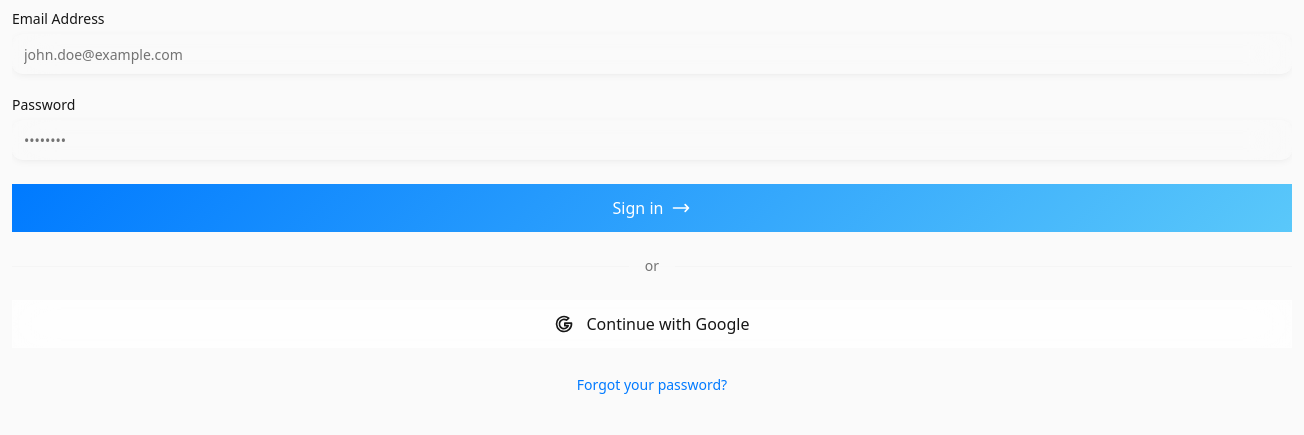
Test: LoginForm › displays error for invalid email format
Type "invalid@email" into the field labelled "Email Address" at (652, 54), box [12, 34, 1292, 74]
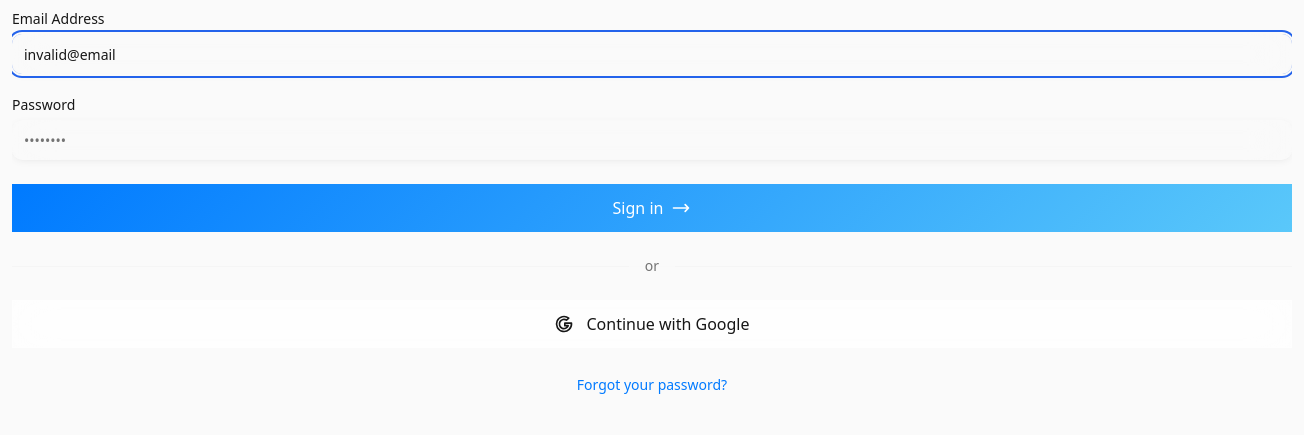
Type "password123" into the password field labelled "Password" at (652, 140), box [12, 120, 1292, 160]
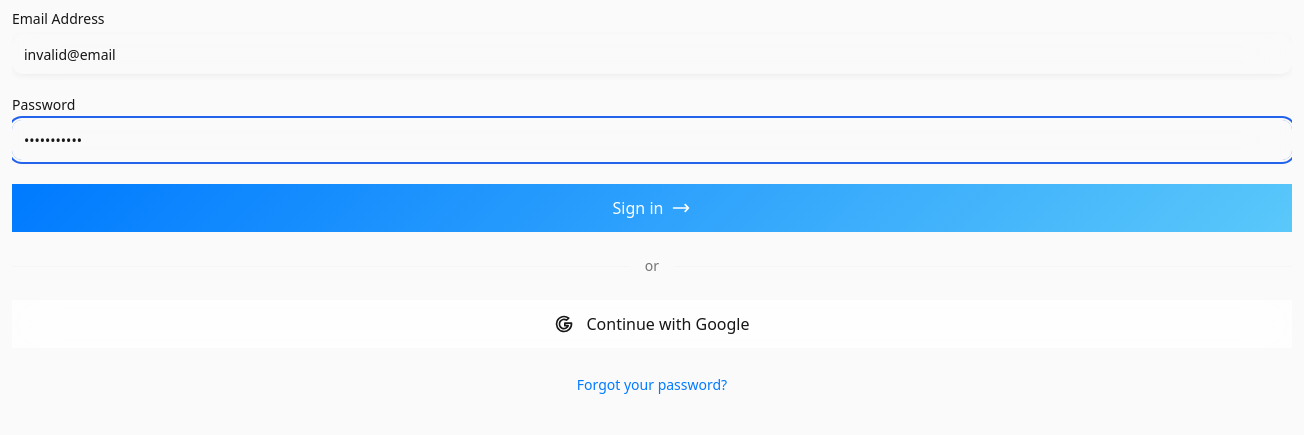
Click the button "Sign in" at (652, 208), box [12, 184, 1292, 232]
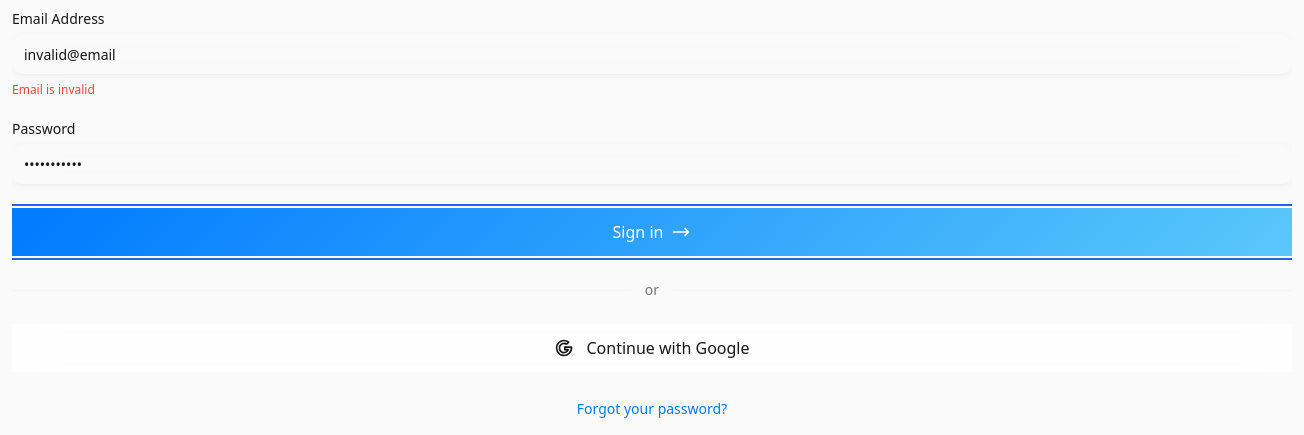
Now the text "Email is invalid" is shown, box [12, 81, 95, 98]
